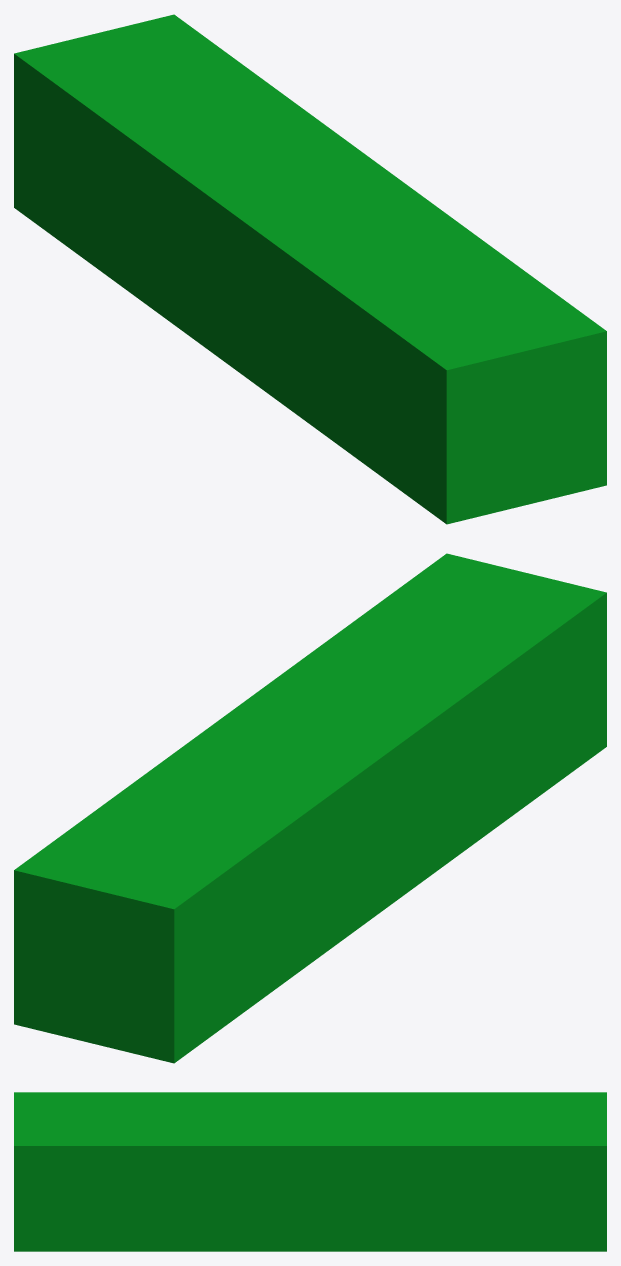
File: bush_2_dark_long.fbx
3 renders of one model, top to bottom at view 1: azimuth 30°, elevation 25°; view 2: azimuth 150°, elevation 25°; view 3: azimuth 270°, elevation 25°, orthographic. The views are drawn at different scales.
Parts seen in each view (by area): view 1: Cube.060; view 2: Cube.060; view 3: Cube.060.
Boxes of the visible parts, x1,y1,x2,y2 form: Cube.060: (14,14,606,524); Cube.060: (14,553,606,1063); Cube.060: (14,1092,606,1251).
Size of the model in its own units: 217 by 200 by 1017.
1 material, 1 textured.
